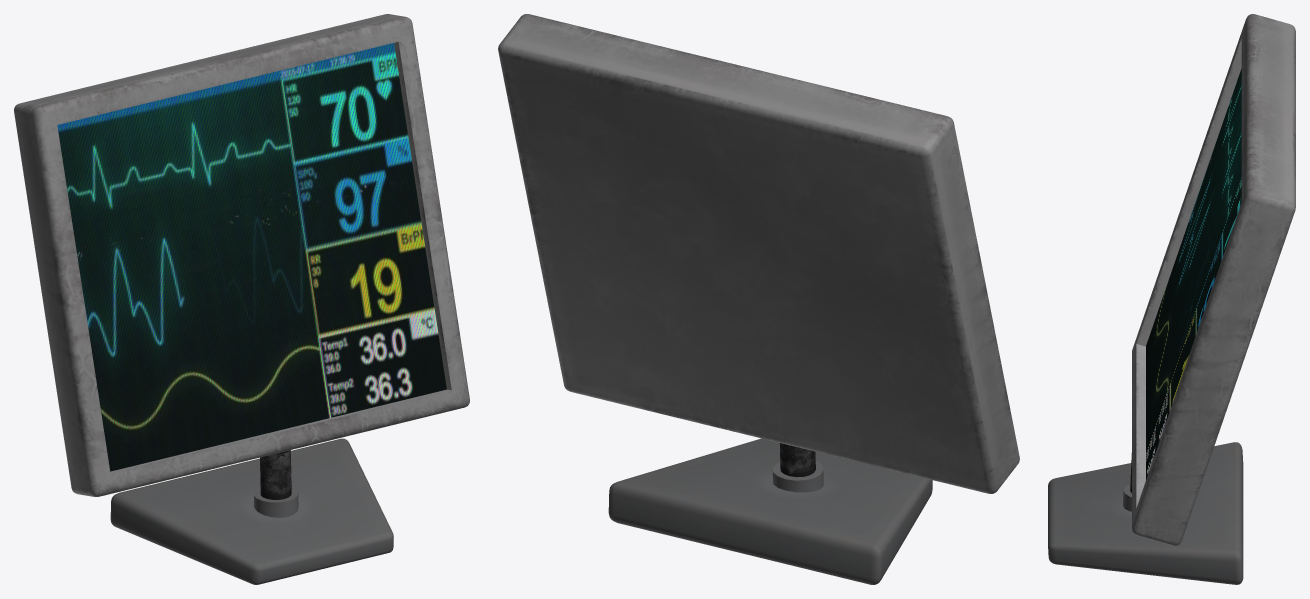
3 views of the same model, side by side, from view 1: azimuth 30°, elevation 25°; view 2: azimuth 150°, elevation 25°; view 3: azimuth 270°, elevation 25° (orthographic). The views are drawn at different scales.
Parts seen in each view (by area): view 1: SM_monitor#, SM_monitor_stand; view 2: SM_monitor#, SM_monitor_stand; view 3: SM_monitor#, SM_monitor_stand.
Boxes of the visible parts, x1,y1,x2,y2 form: SM_monitor#: (14, 14, 469, 496); SM_monitor_stand: (110, 438, 393, 584); SM_monitor#: (498, 14, 1019, 493); SM_monitor_stand: (608, 438, 932, 584); SM_monitor#: (1132, 14, 1295, 545); SM_monitor_stand: (1048, 442, 1243, 584).
Size of the model in its own units: 43.88 by 47.98 by 25.13.
Materials: 1 (1 with a texture image).
